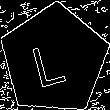L_N: (33, 32, 75, 88)
